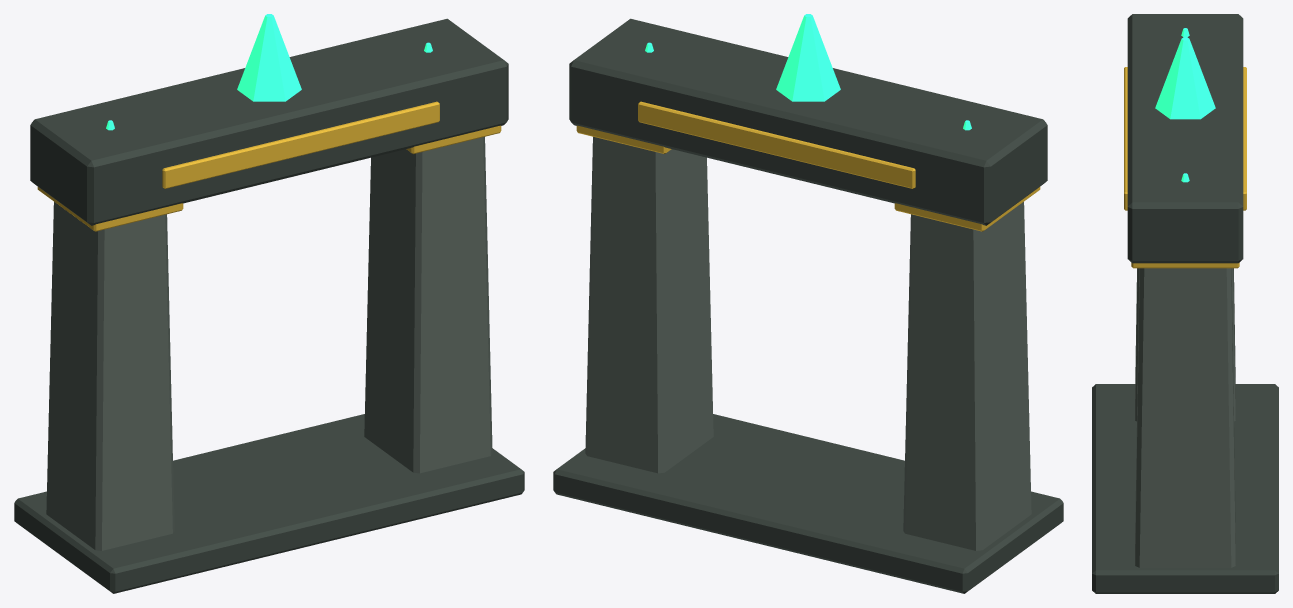
File: EM_ReturnPortalArch.glb
3 views of the same model, side by side, from view 1: azimuth 30°, elevation 25°; view 2: azimuth 150°, elevation 25°; view 3: azimuth 270°, elevation 25° (orthographic). The views are drawn at different scales.
Parts seen in each view (by area): view 1: EM_ReturnPortalArch__StoneDark, EM_ReturnPortalArch__StoneBase, EM_ReturnPortalArch__GoldTrim, EM_ReturnPortalArch__JadeGlow; view 2: EM_ReturnPortalArch__StoneDark, EM_ReturnPortalArch__StoneBase, EM_ReturnPortalArch__GoldTrim, EM_ReturnPortalArch__JadeGlow; view 3: EM_ReturnPortalArch__StoneDark, EM_ReturnPortalArch__StoneBase, EM_ReturnPortalArch__JadeGlow, EM_ReturnPortalArch__GoldTrim.
Part boxes in pixels (left/top/right/bottom): EM_ReturnPortalArch__StoneDark: left=14, top=18, right=524, bottom=593; EM_ReturnPortalArch__StoneBase: left=46, top=137, right=492, bottom=550; EM_ReturnPortalArch__GoldTrim: left=37, top=101, right=501, bottom=231; EM_ReturnPortalArch__JadeGlow: left=106, top=14, right=432, bottom=130; EM_ReturnPortalArch__StoneDark: left=553, top=18, right=1063, bottom=593; EM_ReturnPortalArch__StoneBase: left=585, top=137, right=1031, bottom=550; EM_ReturnPortalArch__GoldTrim: left=576, top=101, right=1040, bottom=231; EM_ReturnPortalArch__JadeGlow: left=645, top=14, right=971, bottom=130; EM_ReturnPortalArch__StoneDark: left=1092, top=14, right=1278, bottom=593; EM_ReturnPortalArch__StoneBase: left=1135, top=268, right=1235, bottom=567; EM_ReturnPortalArch__JadeGlow: left=1155, top=28, right=1215, bottom=182; EM_ReturnPortalArch__GoldTrim: left=1124, top=67, right=1246, bottom=268.
Size of the model in its own units: 24.4 by 27.3 by 10.
